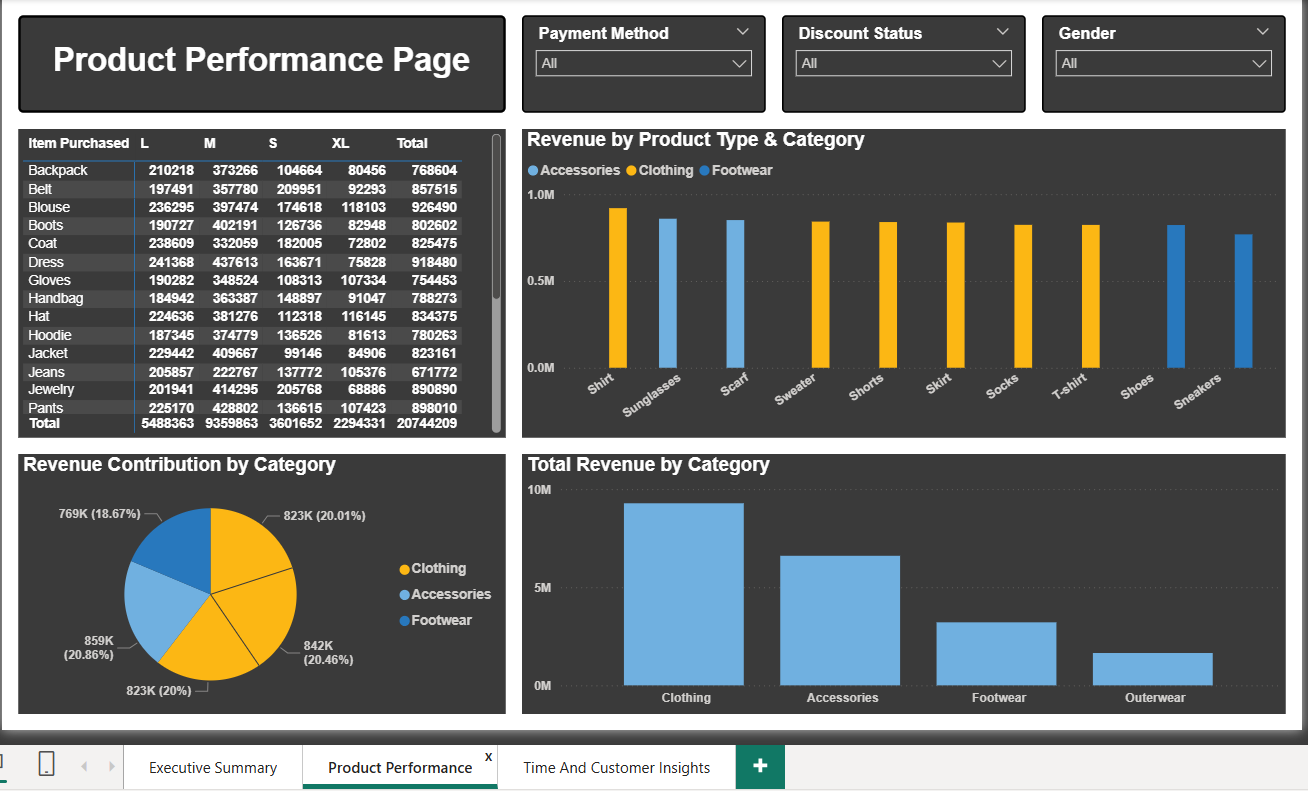

Layout of this report page (visuals, bound fields, positions):
{"tool":"powerbi","page":{"name":"Product Performance","canvas":[1280,720],"ordinal":1},"visuals":[{"type":"textbox","box":[16,16,480,96],"z":0},{"type":"lineClusteredColumnComboChart","title":"Revenue by Product Type & Category","fields":{"Category":["shopping_behavior_updated.Item Purchased"],"Y":["shopping_behavior_updated.Total Amount"],"Series":["shopping_behavior_updated.Category"]},"box":[512,128,752,304],"z":1000},{"type":"pivotTable","fields":{"Rows":["shopping_behavior_updated.Item Purchased"],"Values":["Sum(shopping_behavior_updated.Amount INR)"],"Columns":["shopping_behavior_updated.Size"]},"box":[16,128,480,304],"z":2000},{"type":"pieChart","title":"Revenue Contribution by Category","fields":{"Category":["shopping_behavior_updated.Category"],"Y":["Sum(shopping_behavior_updated.Amount INR)"],"Series":["shopping_behavior_updated.Item Purchased"]},"box":[16,448,480,256],"z":3000},{"type":"clusteredColumnChart","title":"Total Revenue by Category","fields":{"Y":["Sum(shopping_behavior_updated.Amount INR)"],"Category":["shopping_behavior_updated.Category"]},"box":[512,448,752,256],"z":4000},{"type":"slicer","fields":{"Values":["shopping_behavior_updated.Payment Method"]},"box":[512,16,240,96],"z":5000},{"type":"slicer","fields":{"Values":["shopping_behavior_updated.Discount Applied"]},"box":[768,16,240,96],"z":6000},{"type":"slicer","fields":{"Values":["shopping_behavior_updated.Gender"]},"box":[1024,16,240,96],"z":7000}]}

Visuals, with their boxes in screenshot pixels (x1, y1, x2, y2):
textbox: bbox=(20, 13, 503, 109)
"Revenue by Product Type & Category" lineClusteredColumnComboChart: bbox=(519, 126, 1277, 432)
pivotTable - shopping_behavior_updated.Item Purchased x Sum(shopping_behavior_updated.Amount INR): bbox=(20, 126, 503, 432)
"Revenue Contribution by Category" pieChart: bbox=(20, 448, 503, 706)
"Total Revenue by Category" clusteredColumnChart: bbox=(519, 448, 1277, 706)
slicer - shopping_behavior_updated.Payment Method: bbox=(519, 13, 761, 109)
slicer - shopping_behavior_updated.Discount Applied: bbox=(777, 13, 1019, 109)
slicer - shopping_behavior_updated.Gender: bbox=(1035, 13, 1277, 109)
